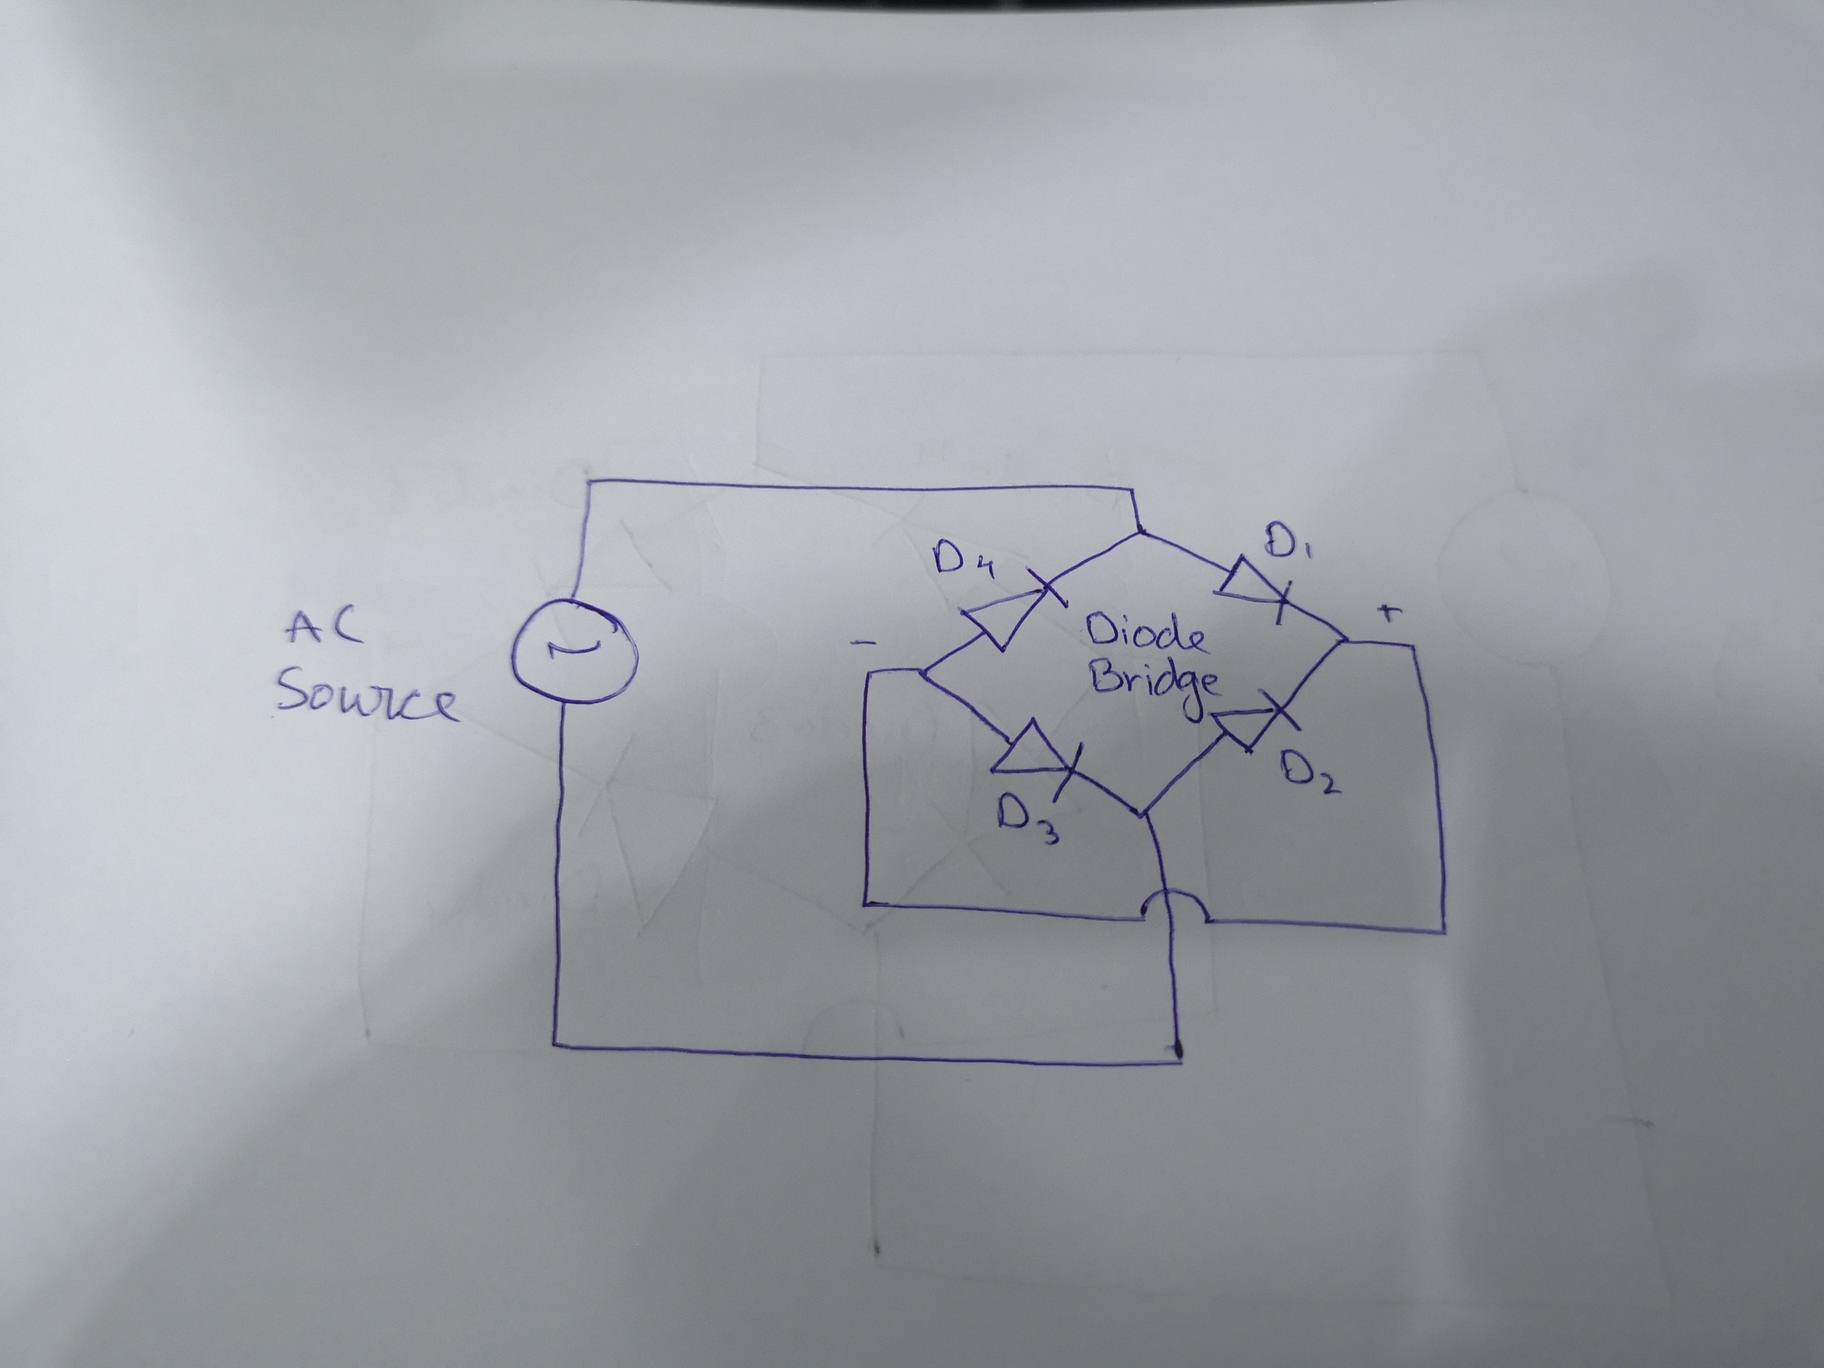crossover: (1130, 882, 1219, 931)
diode: (954, 562, 1071, 658), (987, 710, 1089, 808), (1206, 685, 1306, 759), (1209, 549, 1295, 628)
junction: (539, 1026, 573, 1060), (1165, 1037, 1193, 1071), (574, 468, 605, 499), (1129, 798, 1158, 828), (911, 660, 936, 685), (855, 889, 879, 917), (1126, 520, 1152, 545), (1430, 920, 1455, 946), (1122, 480, 1142, 502), (856, 662, 878, 683), (1400, 637, 1422, 654), (1331, 632, 1351, 650)
text: (266, 660, 467, 731), (1081, 651, 1227, 727), (1079, 605, 1215, 660), (280, 598, 373, 652), (992, 787, 1063, 848), (925, 533, 1002, 583), (1274, 744, 1346, 798), (1261, 516, 1316, 563)
voltage.dc_ac: (500, 591, 645, 711)
